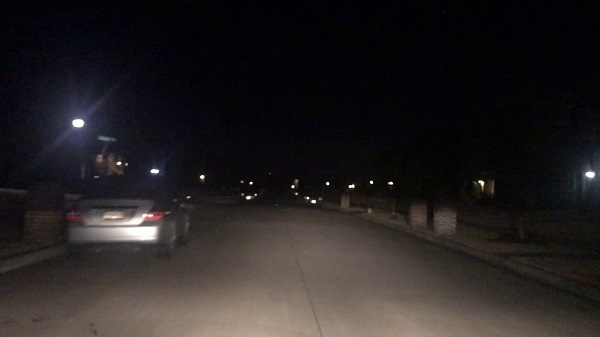car: (72, 174, 196, 256), (292, 184, 323, 205), (239, 184, 259, 204)
